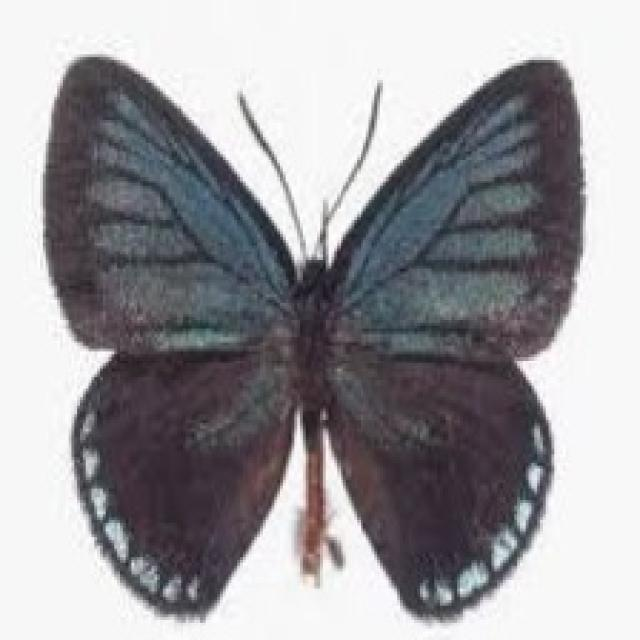butterfly: (37, 48, 586, 623)
